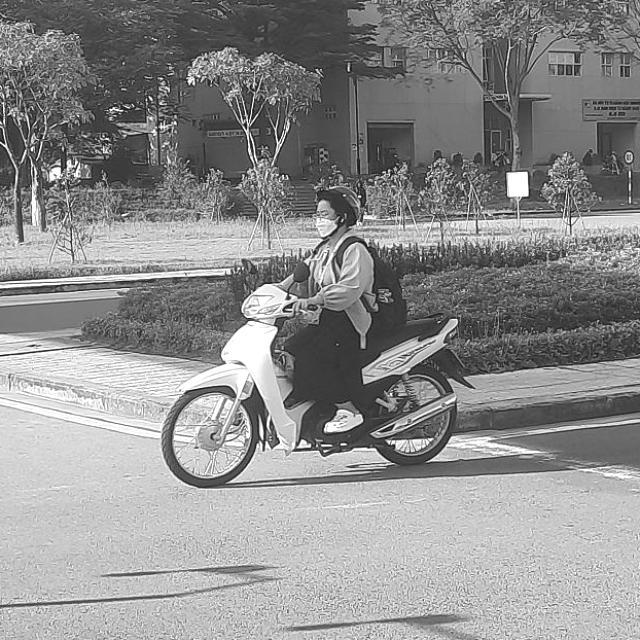Helmet: (309, 184, 364, 240)
